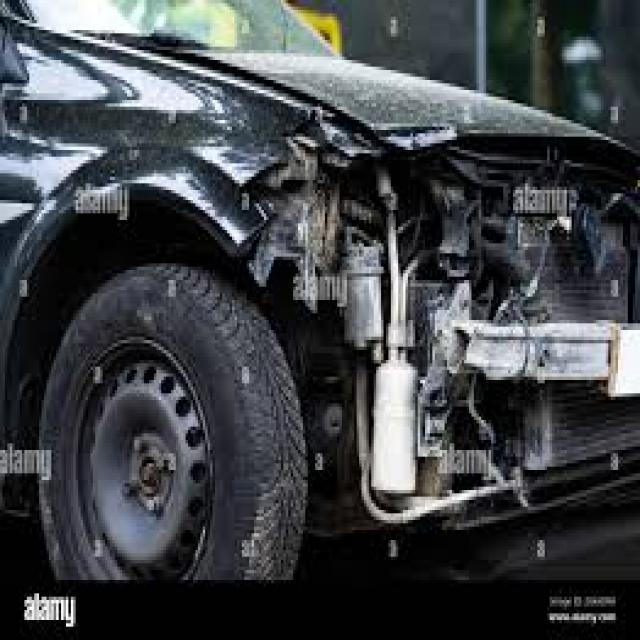damaged-head-light: (270, 138, 430, 260)
